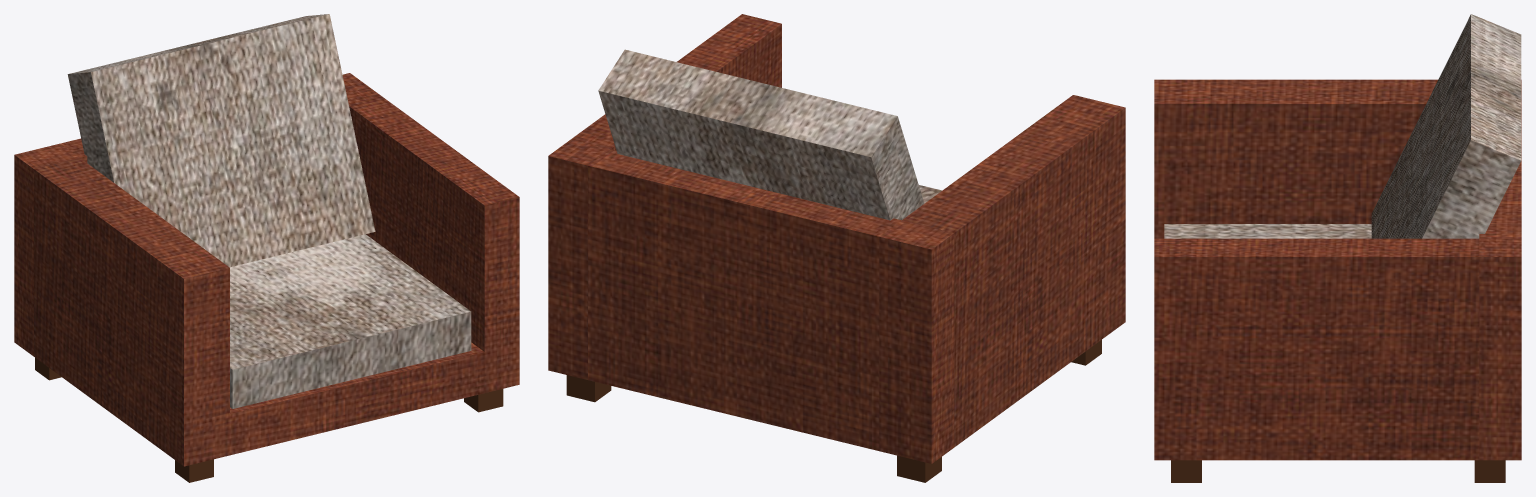
The model's file is sofa_2.fbx.
The picture shows the model from 3 angles, left to right: view 1: azimuth 30°, elevation 25°; view 2: azimuth 150°, elevation 25°; view 3: azimuth 270°, elevation 25°; orthographic projection. The views are drawn at different scales.
Parts seen in each view (by area): view 1: Cube.026; view 2: Cube.026; view 3: Cube.026.
Boxes of the visible parts, <box> form: Cube.026: <box>14,14,519,482</box>; Cube.026: <box>548,14,1125,482</box>; Cube.026: <box>1154,14,1521,482</box>.
Size of the model in its own units: 281 by 240 by 246.
